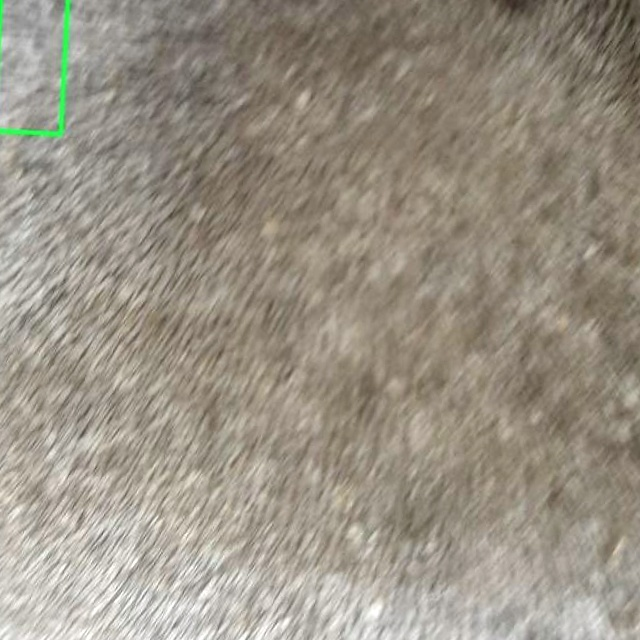Seborrheic Dermatitis: (0, 0, 67, 134)
